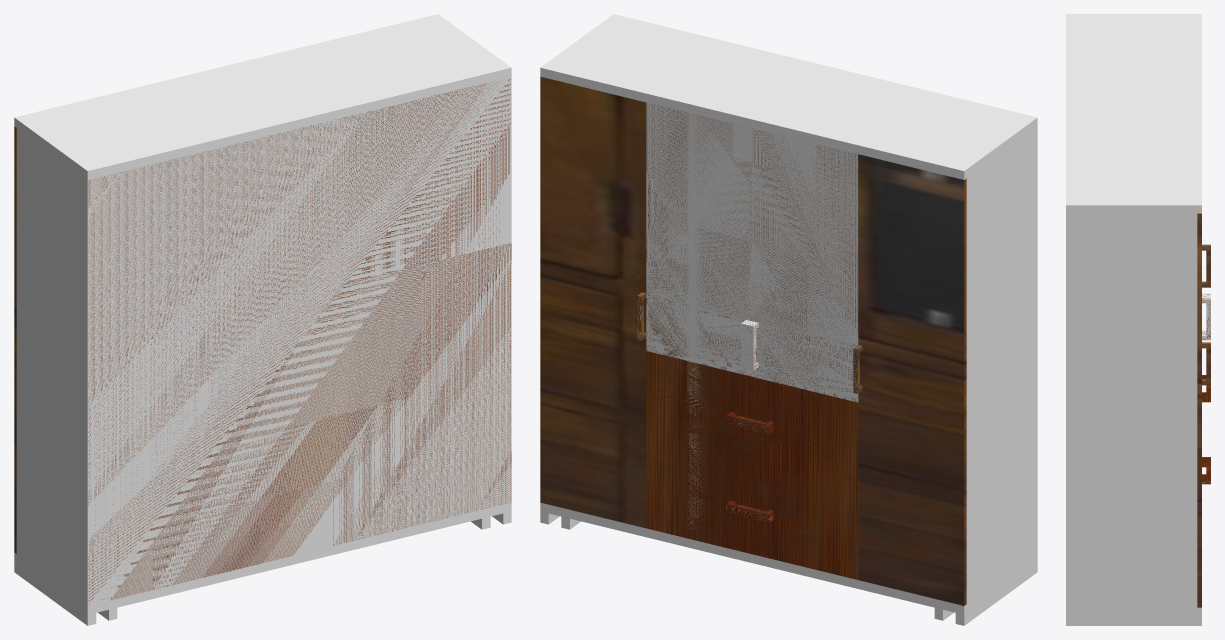
3 views of the same model, side by side, from view 1: azimuth 30°, elevation 25°; view 2: azimuth 150°, elevation 25°; view 3: azimuth 270°, elevation 25° (orthographic). The views are drawn at different scales.
Visible parts, largest first — view 1: mesh5_mesh5-geometry, mesh1_mesh1-geometry, mesh3_mesh3-geometry; view 2: mesh5_mesh5-geometry, mesh1_mesh1-geometry, mesh3_mesh3-geometry; view 3: mesh5_mesh5-geometry, mesh1_mesh1-geometry, mesh3_mesh3-geometry.
Part boxes in pixels (x1,y1,x2,y2): mesh5_mesh5-geometry: (14,76,511,605); mesh1_mesh1-geometry: (14,14,511,614); mesh3_mesh3-geometry: (14,511,511,625); mesh5_mesh5-geometry: (540,76,1037,605); mesh1_mesh1-geometry: (540,14,1037,614); mesh3_mesh3-geometry: (540,511,1037,625); mesh5_mesh5-geometry: (1066,213,1210,607); mesh1_mesh1-geometry: (1066,14,1201,615); mesh3_mesh3-geometry: (1066,615,1201,625).
Size of the model in its own units: 0.6815 by 0.6986 by 0.2181.
